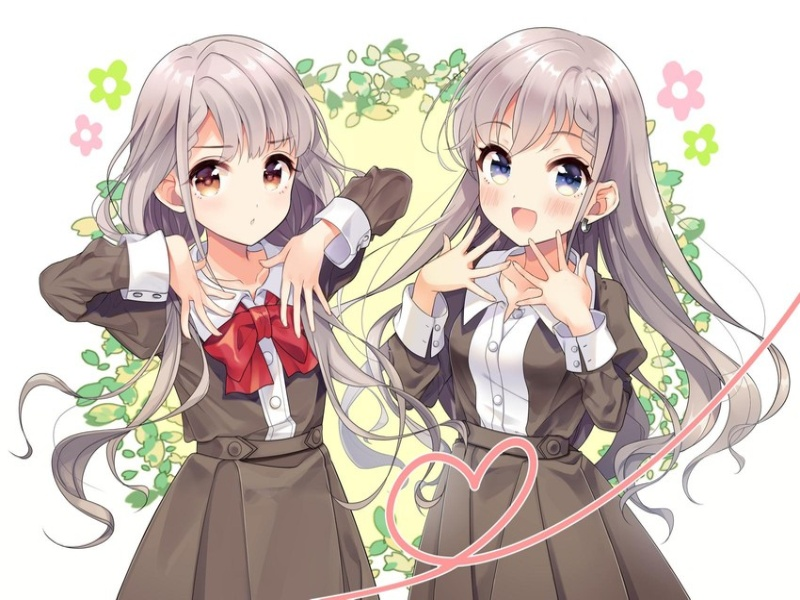dress: (93, 269, 383, 600)
flower: (652, 47, 726, 173), (58, 51, 136, 154)
person: (402, 272, 701, 600), (114, 30, 334, 270), (445, 23, 624, 263)
